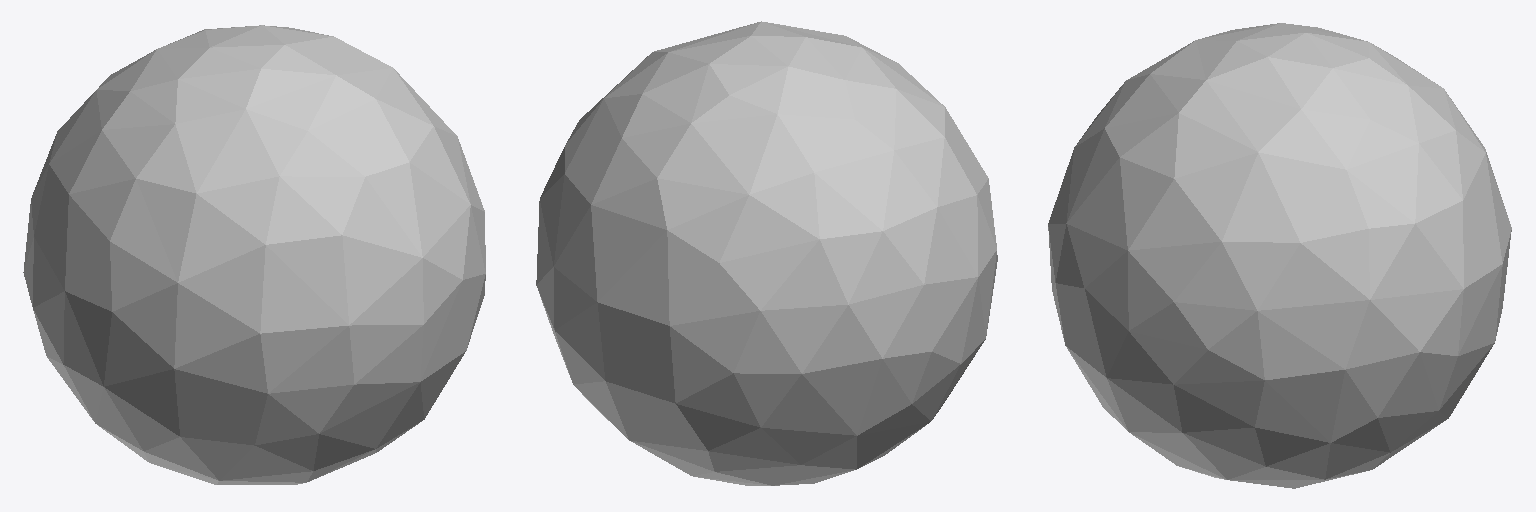
File: bubble.obj
The picture shows the model from 3 angles: view 1: azimuth 30°, elevation 25°; view 2: azimuth 150°, elevation 25°; view 3: azimuth 270°, elevation 25°; orthographic projection.
Parts seen in each view (by area): view 1: Sphere; view 2: Sphere; view 3: Sphere.
Part boxes in pixels (left/top/right/bottom): Sphere: left=23, top=25, right=485, bottom=484; Sphere: left=536, top=21, right=997, bottom=485; Sphere: left=1048, top=23, right=1511, bottom=488.
Size of the model in its own units: 2 by 2 by 2.